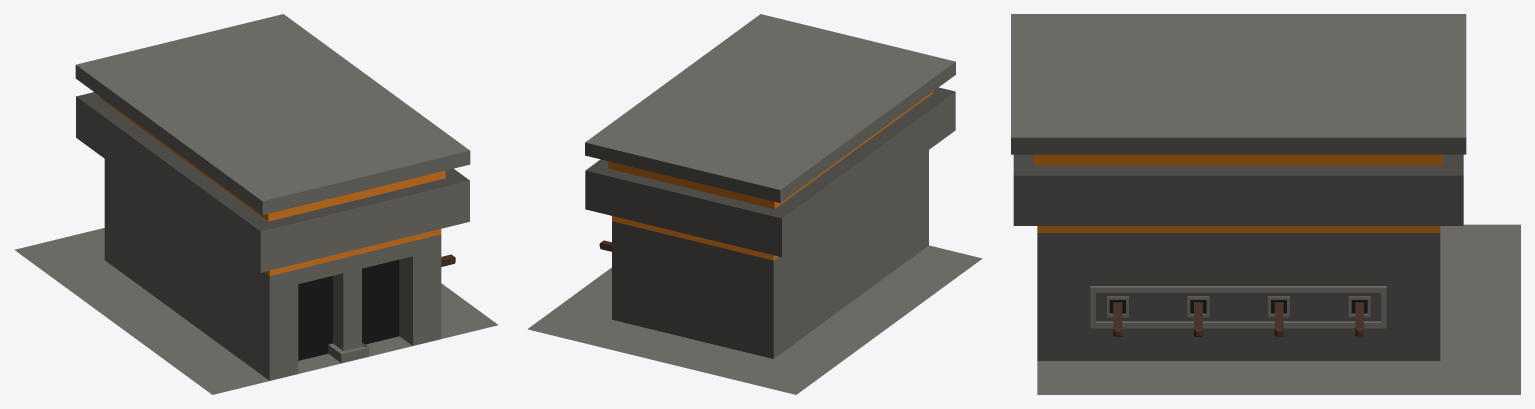
File: Poker-lvl001.fbx
3 renders of one model, left to right at view 1: azimuth 30°, elevation 25°; view 2: azimuth 150°, elevation 25°; view 3: azimuth 270°, elevation 25°, orthographic. The views are drawn at different scales.
Visible parts, largest first — view 1: Stabber; view 2: Stabber; view 3: Stabber, Stabbers.
Part boxes in pixels (box(x1,y1,x2,y2)): Stabber: box(14, 14, 498, 394); Stabber: box(527, 14, 982, 394); Stabber: box(1011, 14, 1520, 394); Stabbers: box(1113, 302, 1363, 336).
Size of the model in its own units: 500 by 320 by 632.
